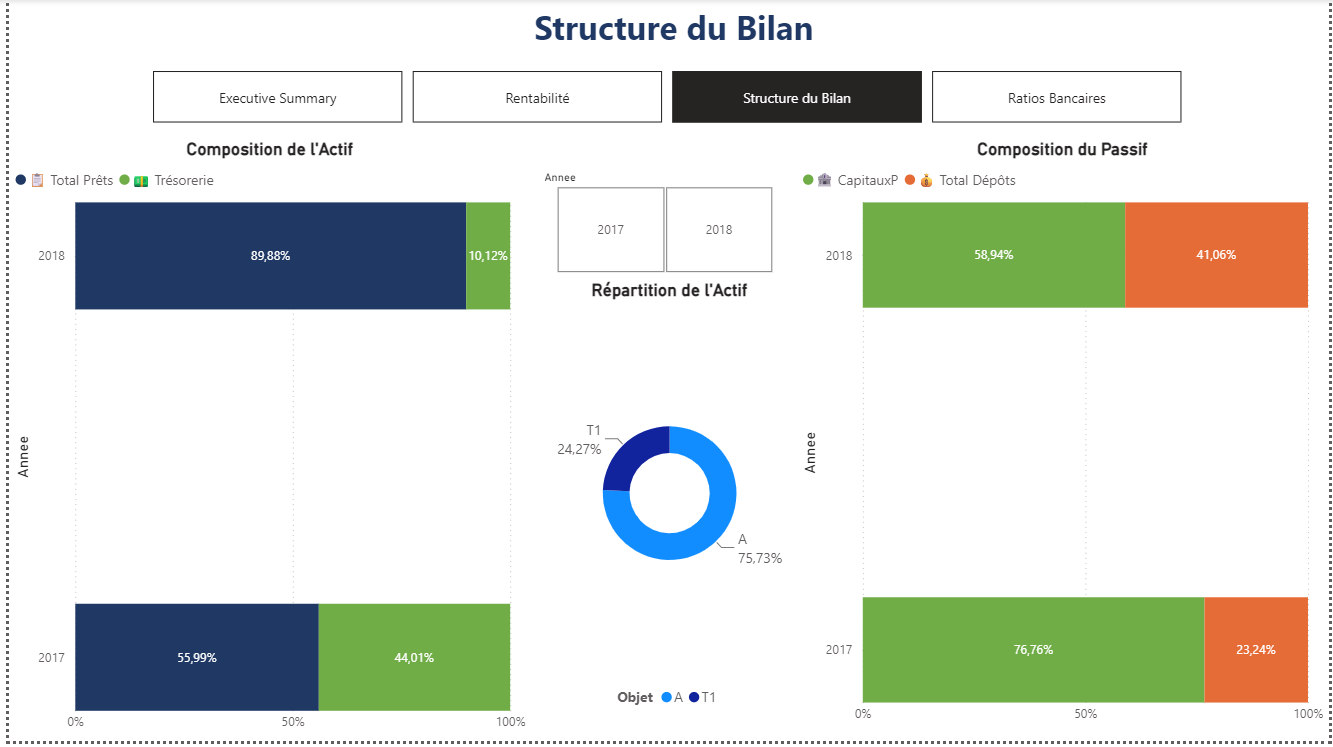

Layout of this report page (visuals, bound fields, positions):
{"tool":"powerbi","page":{"name":"Structure du Bilan","canvas":[1280,720],"ordinal":2},"visuals":[{"type":"textbox","box":[10,0,1270,70],"z":0},{"type":"slicer","fields":{"Values":["Dim_date.Annee"]},"box":[506,162,258,110],"z":1000},{"type":"hundredPercentStackedBarChart","title":"Composition de l''Actif","fields":{"Category":["Dim_date.Annee"],"Y":["Indicateurs.📋 Total Prêts","Indicateurs.💵 Trésorerie"]},"box":[0,136,506,584],"z":2000},{"type":"hundredPercentStackedBarChart","title":"Composition du Passif","fields":{"Category":["Dim_date.Annee"],"Y":["Indicateurs.🏦 CapitauxP","Indicateurs.💰 Total Dépôts"]},"box":[764,136,516,576],"z":3000},{"type":"donutChart","title":"Répartition de l''Actif","fields":{"Category":["Bilan.Objet"],"Y":["Sum(Bilan.Montant)"]},"box":[516,272,248,424],"z":4000},{"type":"pageNavigator","box":[140,70,1000,50],"z":5000}]}

Visuals, with their boxes in screenshot pixels (x1, y1, x2, y2), scaled from the page's 1280x720 canvas onto the 1333x747 screenshot:
textbox: select_region(10, 0, 1332, 73)
slicer - Dim_date.Annee: select_region(527, 168, 796, 282)
"Composition de l''Actif" hundredPercentStackedBarChart: select_region(0, 141, 527, 746)
"Composition du Passif" hundredPercentStackedBarChart: select_region(796, 141, 1332, 739)
"Répartition de l''Actif" donutChart: select_region(537, 282, 796, 722)
pageNavigator: select_region(146, 73, 1187, 125)
